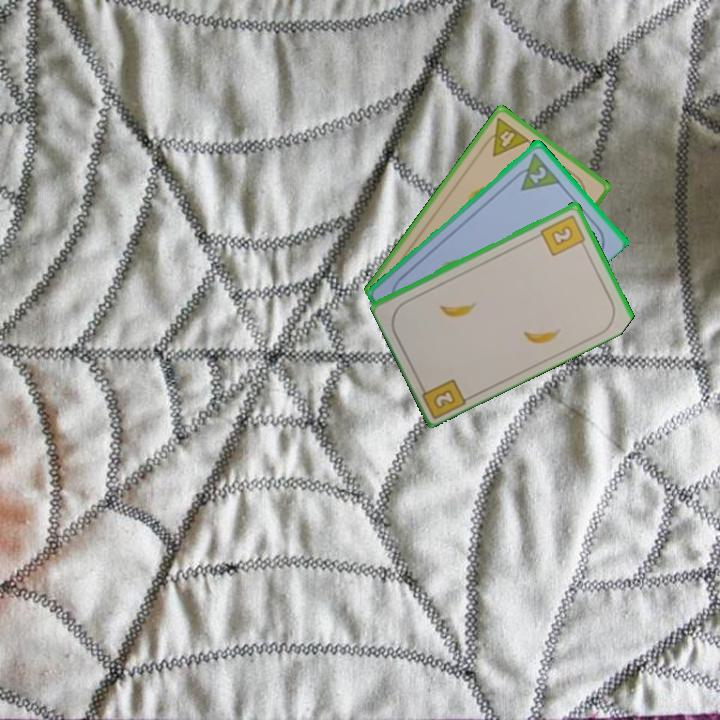2b: (537, 211, 589, 259), (415, 375, 470, 419)
2p: (509, 148, 562, 194)
4p: (478, 114, 533, 159)
